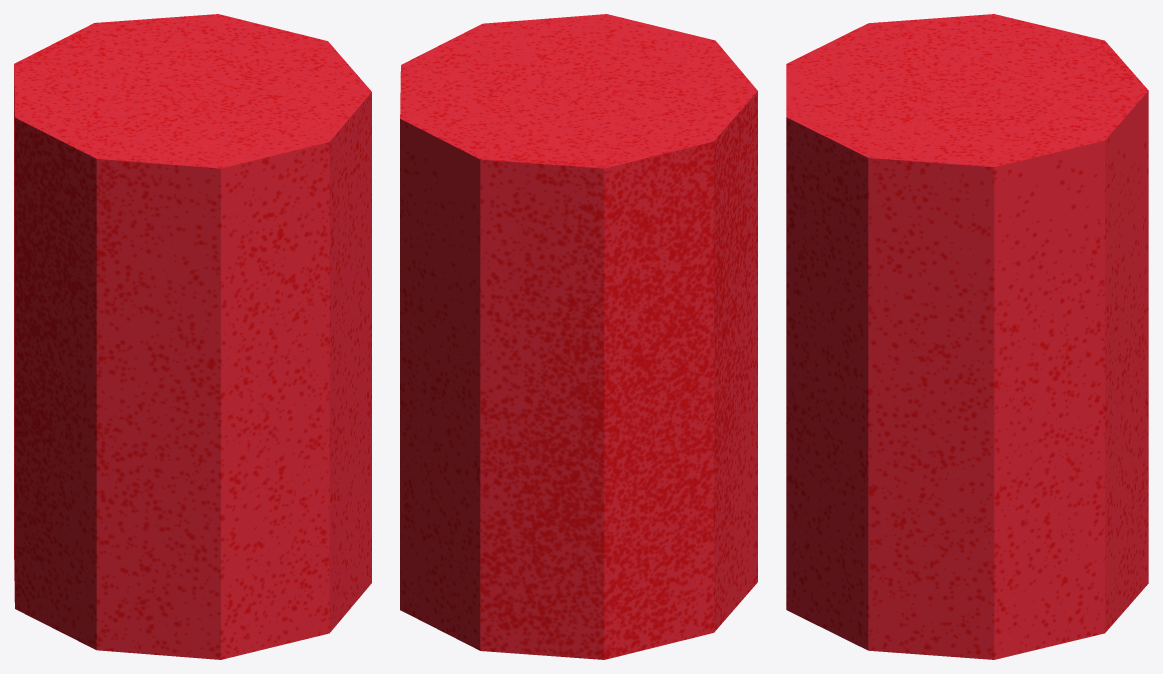
File: Tiza.fbx
3 renders of one model, left to right at view 1: azimuth 30°, elevation 25°; view 2: azimuth 150°, elevation 25°; view 3: azimuth 270°, elevation 25°, orthographic.
Visible parts, largest first — view 1: Cilindro; view 2: Cilindro; view 3: Cilindro.
Boxes of the visible parts, bbox=[...] form: Cilindro: bbox=[14, 14, 371, 659]; Cilindro: bbox=[400, 14, 757, 659]; Cilindro: bbox=[786, 14, 1148, 659].
Bounding box in the file's own units: 200 × 300 × 200.
1 material, 1 textured.
